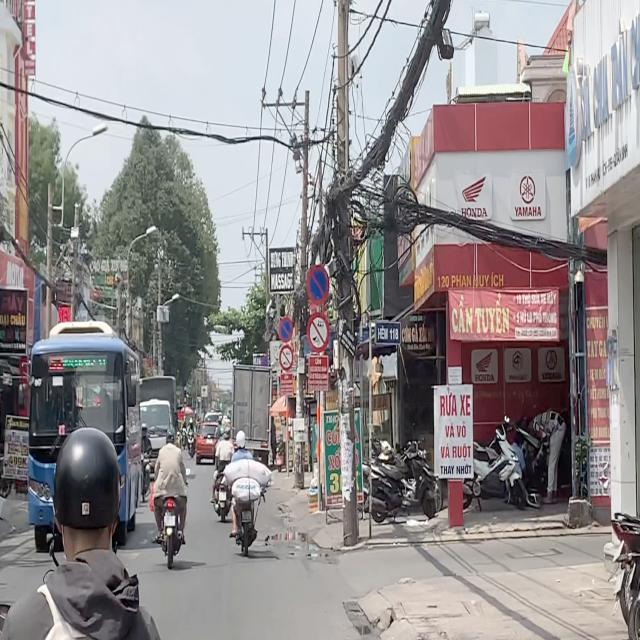Cam con lai: (306, 312, 331, 353), (279, 342, 296, 372)
Cam do: (306, 264, 330, 305), (279, 317, 293, 343)
